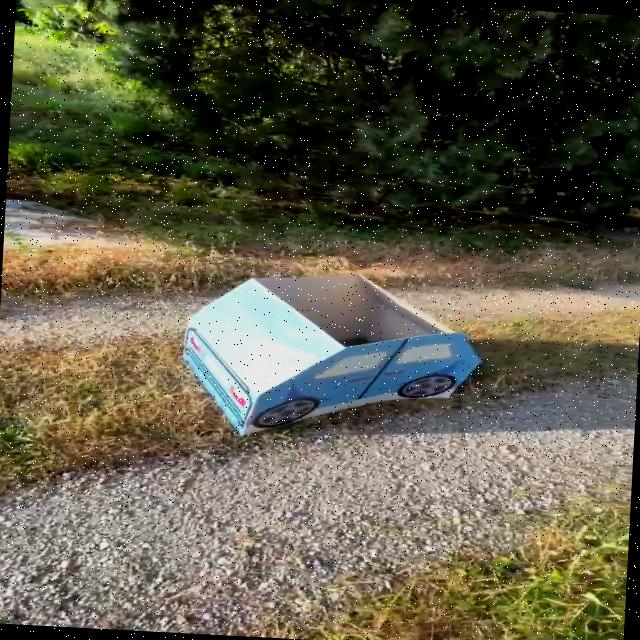blue_car: (143, 258, 507, 456)
